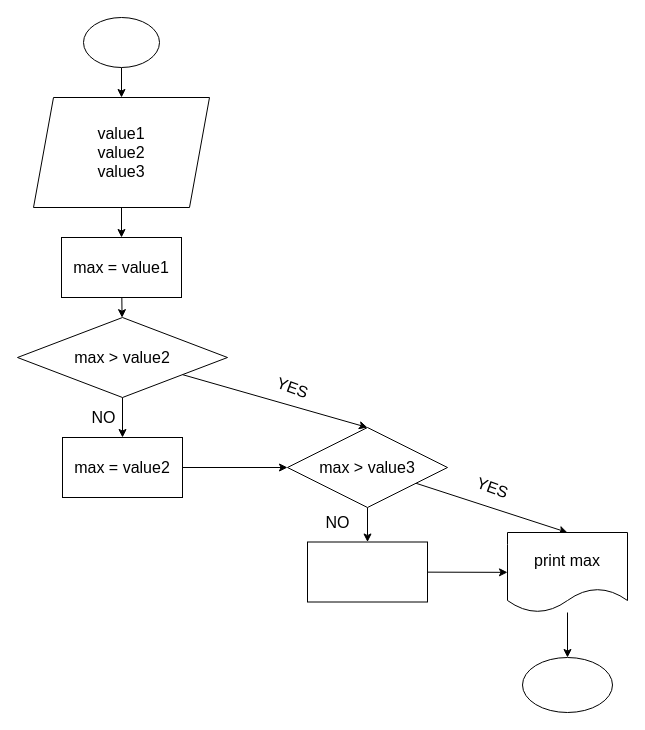
The diagram is 645 pixels wide and 730 high, and some of its shapes have lost their labels. Here are the shapes that lost their labels. From the top down, the box of each, then its label:
(82, 16, 160, 68): start
(306, 541, 428, 602): max = value3
(522, 656, 612, 712): end
